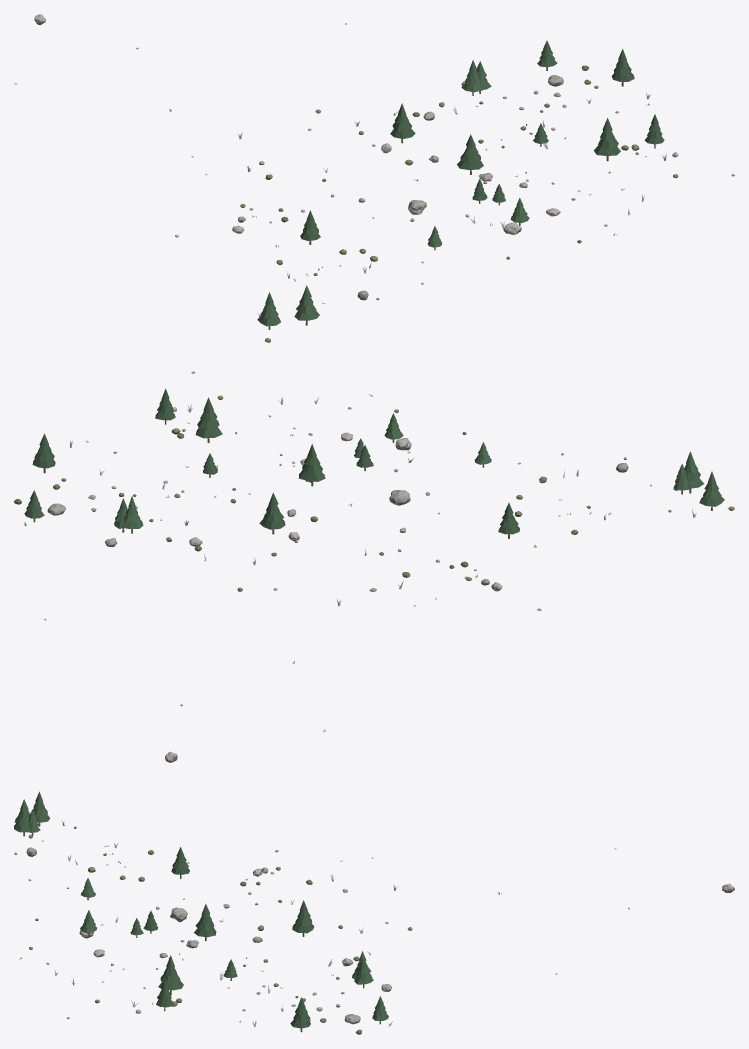
File: coast_land_scatter_c09_16.glb
3 renders of one model, top to bottom at view 1: azimuth 30°, elevation 25°; view 2: azimuth 150°, elevation 25°; view 3: azimuth 270°, elevation 25°, orthographic. The views are drawn at different scales.
Visible parts, largest first — view 1: coast_land_scatter_c09_16; view 2: coast_land_scatter_c09_16; view 3: coast_land_scatter_c09_16.
Part boxes in pixels (x1=…): coast_land_scatter_c09_16: x1=14, y1=14, x2=734, y2=342; coast_land_scatter_c09_16: x1=14, y1=371, x2=734, y2=762; coast_land_scatter_c09_16: x1=14, y1=791, x2=734, y2=1034.
Bounding box in the file's own units: 194 × 25.61 × 254.
